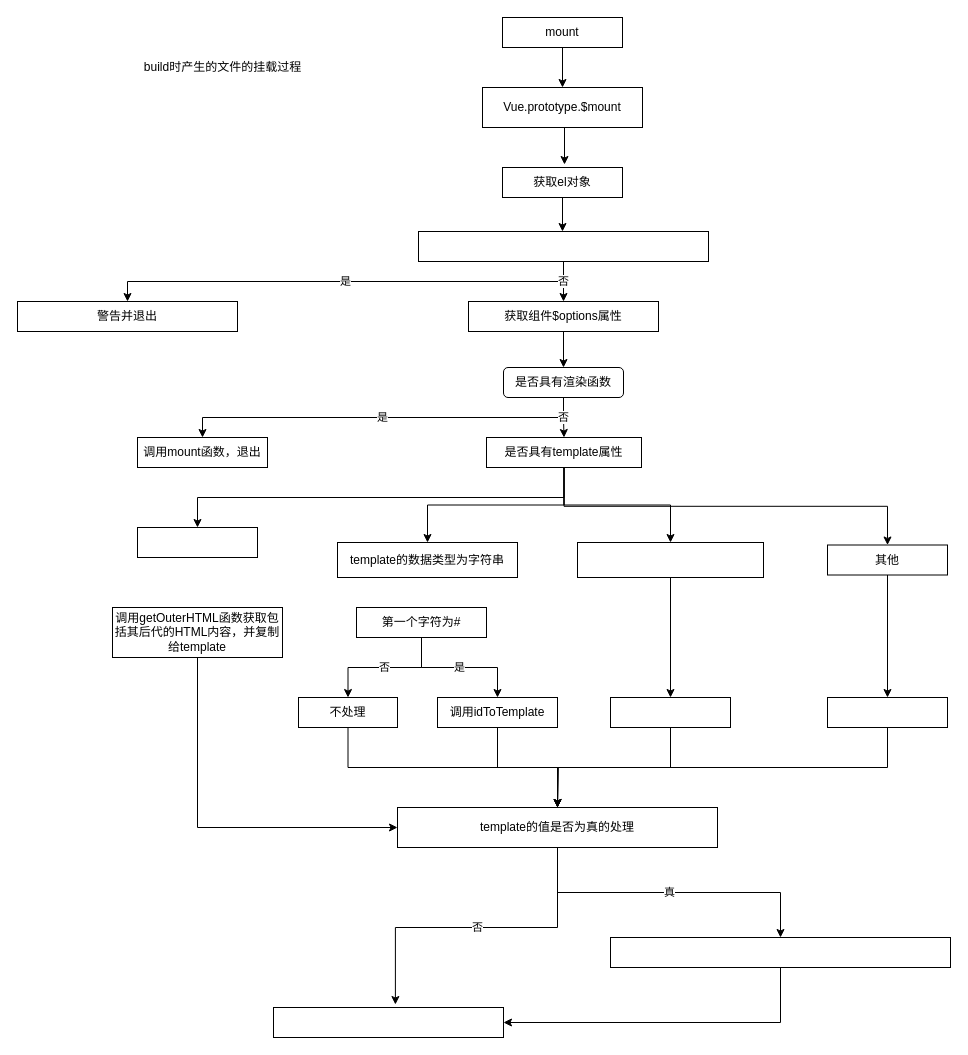
This 968x1055 diagram has some shape labels left out. Each missing label, with the centre of its shape:
"el的值为真" belongs at pixel 197 542.
"template具有nodetype属性" belongs at pixel 670 560.
"如果el对象是body对象或者是documents对象的处理" belongs at pixel 563 246.
"直接返回此组件对象" belongs at pixel 887 712.
"获取template的innetHTML属性" belongs at pixel 670 712.
"调用compileToFunctions函数获取渲染函数和静态渲染函数" belongs at pixel 780 952.
"调用mount函数" belongs at pixel 388 1022.
